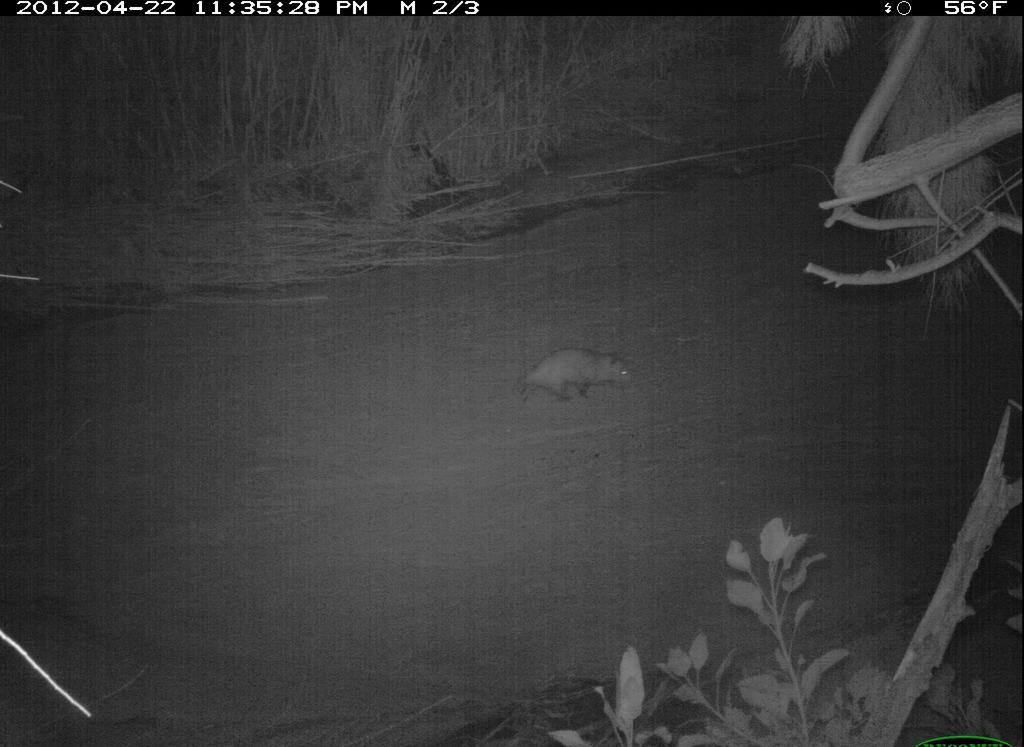opossum: (487, 342, 652, 414)
